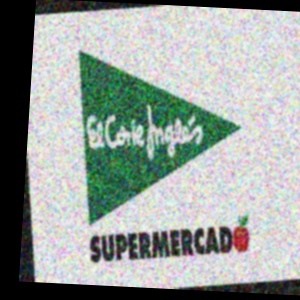corte_ingles: (183, 44, 240, 123)
